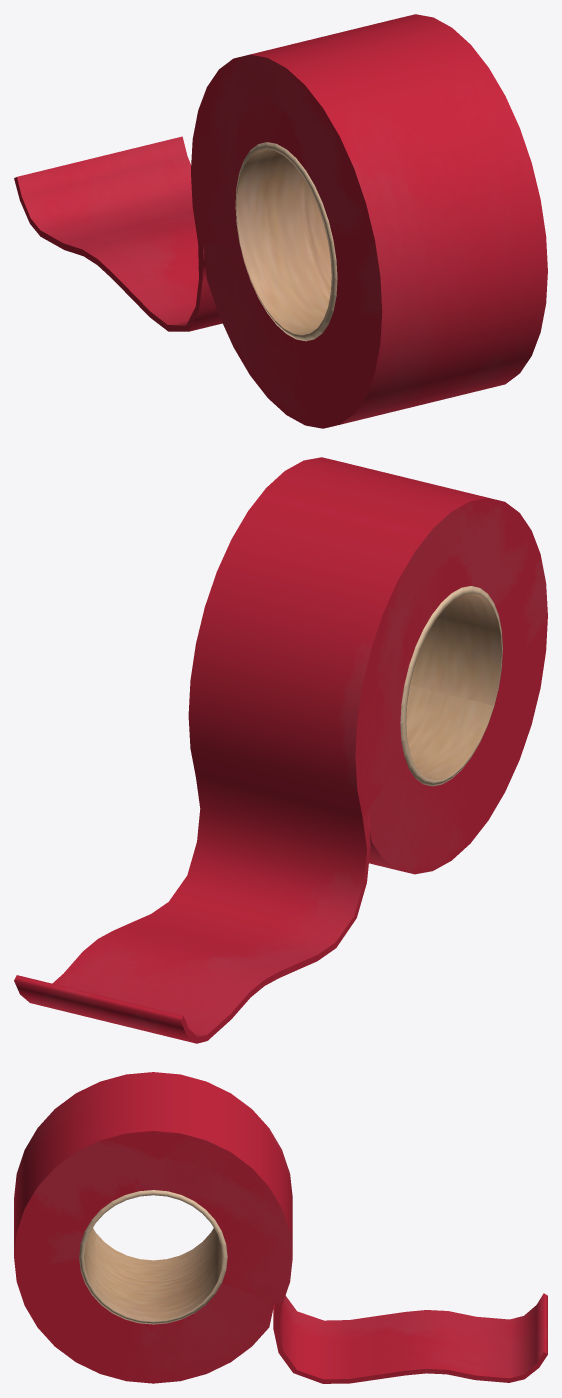
The model's file is roll.fbx.
3 renders of one model, top to bottom at view 1: azimuth 30°, elevation 25°; view 2: azimuth 150°, elevation 25°; view 3: azimuth 270°, elevation 25°, orthographic. The views are drawn at different scales.
Visible parts, largest first — view 1: Cylinder; view 2: Cylinder; view 3: Cylinder.
Part boxes in pixels (box(x1,y1,x2,y2)): Cylinder: box(14, 14, 547, 428); Cylinder: box(14, 457, 547, 1043); Cylinder: box(14, 1072, 547, 1383).
Bounding box in the file's own units: 103 × 201 × 383.
1 material, 1 textured.
